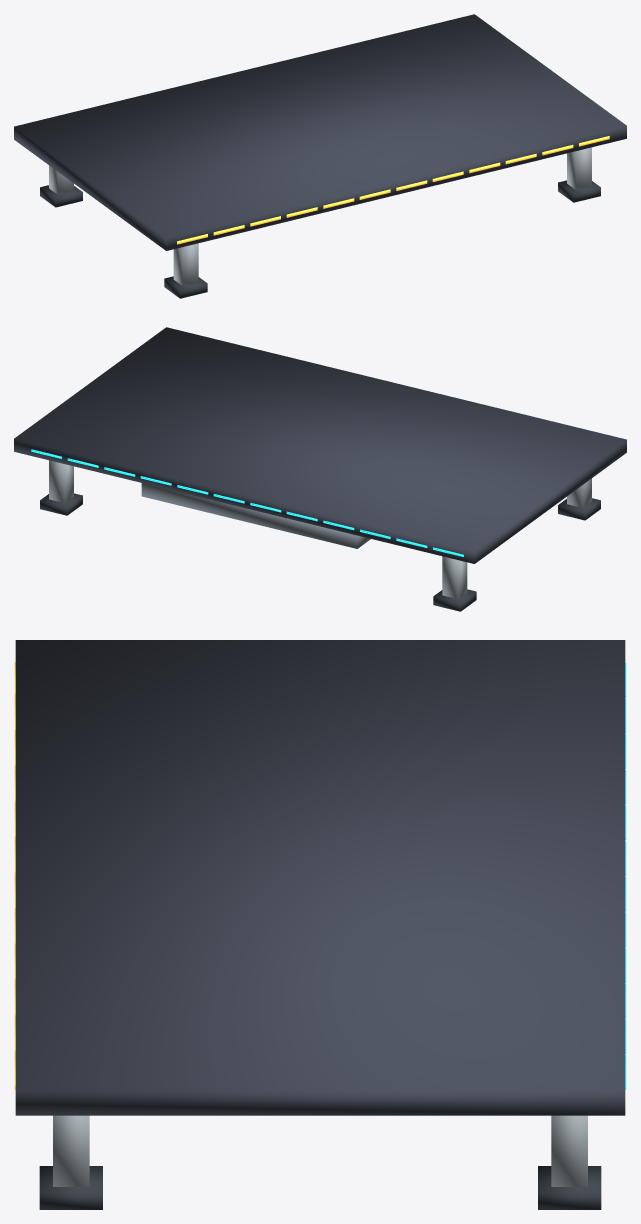
The model's file is 00_L95_PrecisionWorkBenchFrame.fbx.
3 renders of one model, top to bottom at view 1: azimuth 30°, elevation 25°; view 2: azimuth 150°, elevation 25°; view 3: azimuth 270°, elevation 25°, orthographic. The views are drawn at different scales.
Parts seen in each view (by area): view 1: L95_PrecisionWorkBenchFrame; view 2: L95_PrecisionWorkBenchFrame; view 3: L95_PrecisionWorkBenchFrame.
Part boxes in pixels (x1,y1,x2,y2): L95_PrecisionWorkBenchFrame: (14,14,626,298); L95_PrecisionWorkBenchFrame: (14,327,626,611); L95_PrecisionWorkBenchFrame: (14,640,626,1209).
Size of the model in its own units: 5.55 by 0.805 by 3.19.
